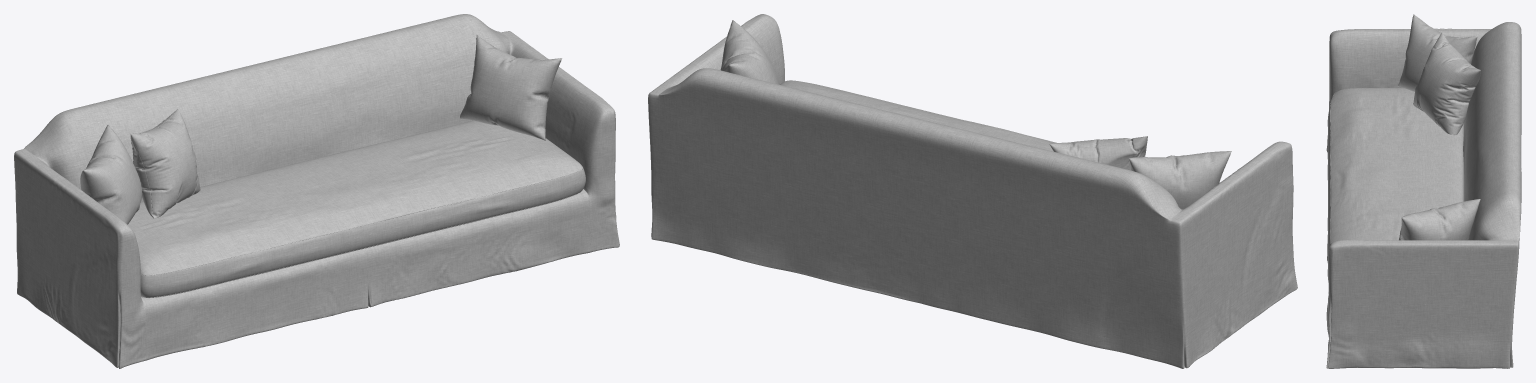
File: Hendry-Sofa-larforma.glb
3 renders of one model, left to right at view 1: azimuth 30°, elevation 25°; view 2: azimuth 150°, elevation 25°; view 3: azimuth 270°, elevation 25°, orthographic. The views are drawn at different scales.
Visible parts, largest first — view 1: Sofa, Seat Cushion, Cushions.002, Cushions, Cushions.001; view 2: Sofa, Cushions.001, Seat Cushion, Cushions.002, Cushions; view 3: Sofa, Seat Cushion, Cushions, Cushions.002, Cushions.001.
Boxes of the visible parts, x1,y1,x2,y2 form: Sofa: (14,14,619,368); Seat Cushion: (128,120,585,298); Cushions.002: (460,35,562,140); Cushions: (130,109,200,218); Cushions.001: (80,125,142,224); Sofa: (648,14,1297,368); Cushions.001: (1129,151,1231,209); Seat Cushion: (780,80,1219,182); Cushions.002: (720,20,779,84); Cushions: (1049,136,1147,170); Sofa: (1326,22,1521,368); Seat Cushion: (1327,88,1464,279); Cushions: (1413,32,1480,135); Cushions.002: (1399,199,1480,240); Cushions.001: (1398,14,1477,91).
Bounding box in the file's own units: 2.28 × 0.7424 × 0.8579.
Materials: 1 (1 with a texture image).
